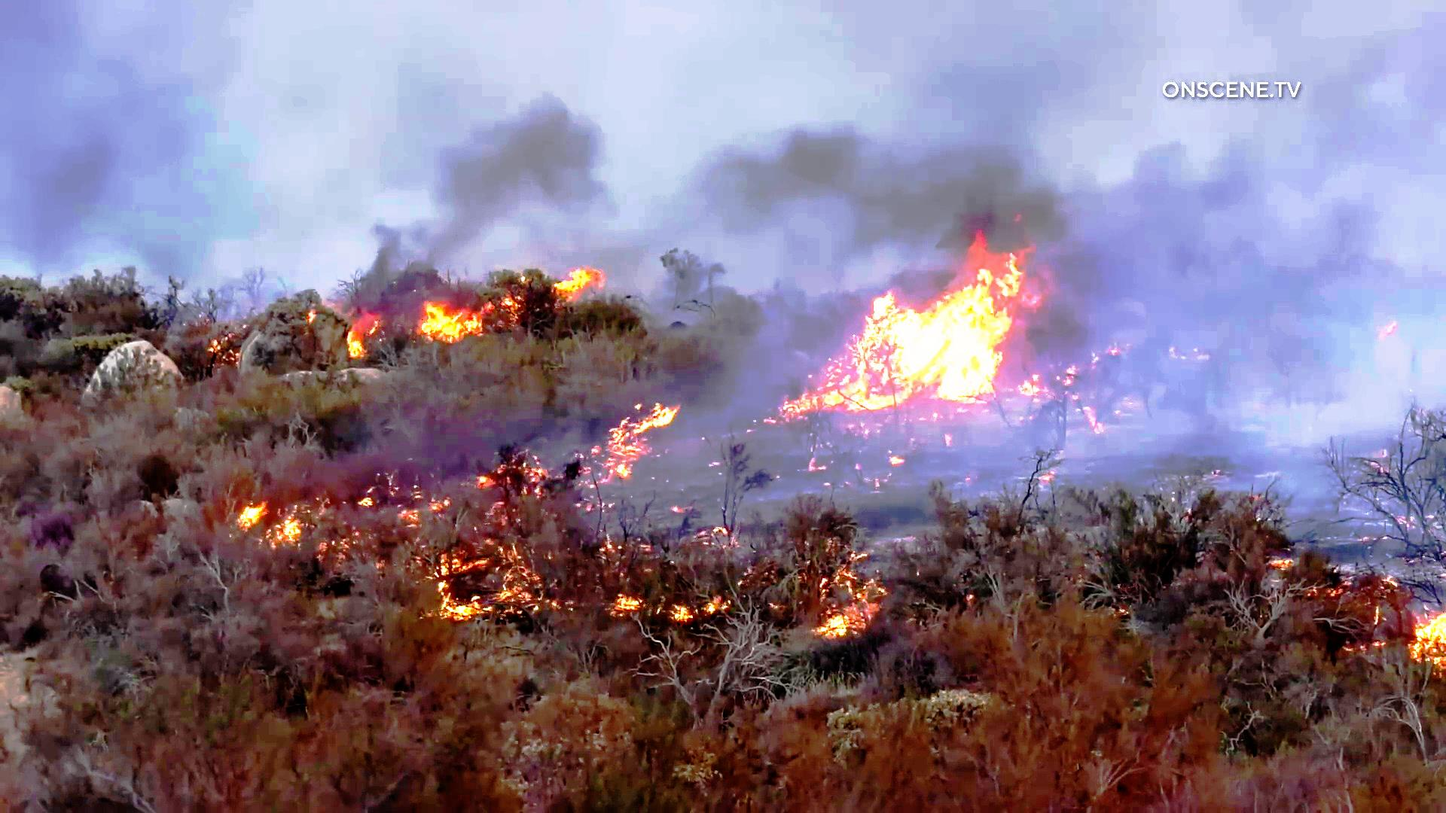fire: (828, 239, 1032, 413), (352, 281, 499, 357)
smoke: (712, 115, 1076, 261), (388, 108, 614, 247)
